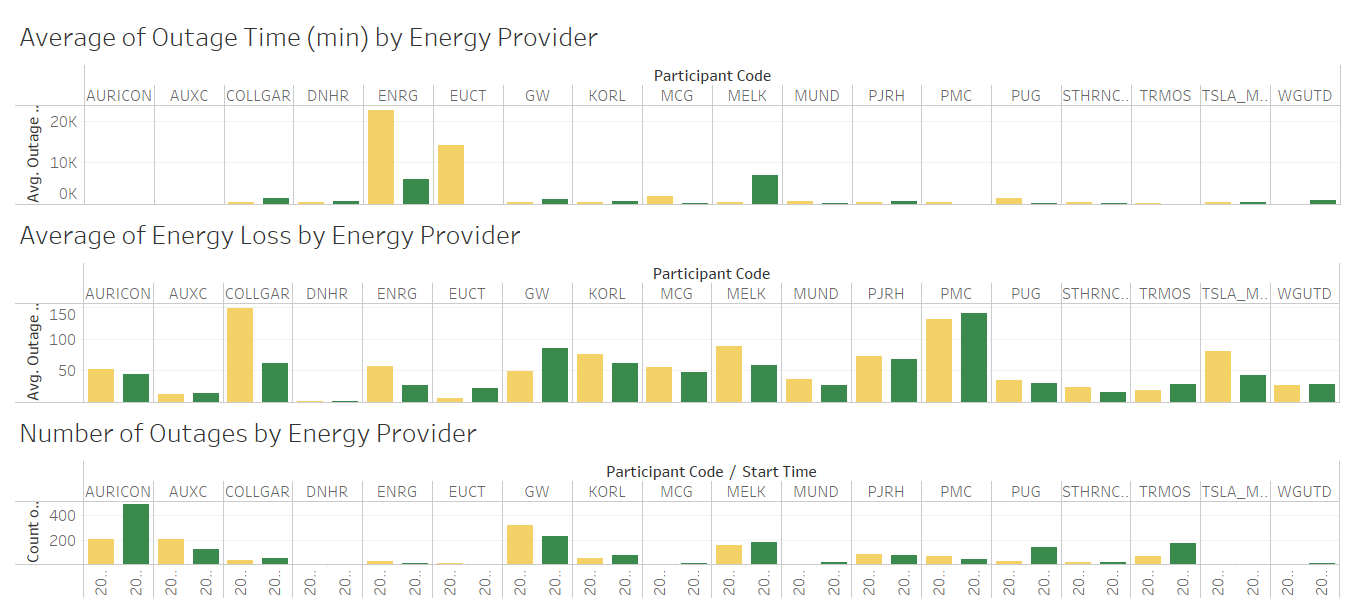

This screenshot's page, from the dashboard's own definition file:
{"tool":"tableau","page":{"name":"Energy Providers","canvas":[1000,1000],"units":"permille","ordinal":0},"visuals":[{"type":"worksheet","title":"Average of Outage Time (min) by Energy Provider","mark":"Bar","rows":["Calculation_789818849608769575"],"cols":["Participant_Code","Start_Time"],"box":[6.3,14.1,987.4,324.5]},{"type":"worksheet","title":"Average of Energy Loss by Energy Provider","mark":"Bar","rows":["Outage_MW"],"cols":["Participant_Code","Start_Time"],"box":[6.3,338.6,987.4,324.5]},{"type":"worksheet","title":"Number of Outages by Energy Provider","mark":"Bar","rows":["Description"],"cols":["Participant_Code","Start_Time"],"box":[6.3,663.1,987.4,322.8]}]}

Visuals, with their boxes on the dashboard's canvas, which has no fixed pixel size, in thousandths of its width and height (x1, y1, x2, y2). These are canvas units, not pixel positions in the 1356x608 screenshot, which may show the page scaled, cropped or inside an application window:
"Average of Outage Time (min) by Energy Provider" worksheet (Bar marks): region(6, 14, 994, 339)
"Average of Energy Loss by Energy Provider" worksheet (Bar marks): region(6, 339, 994, 663)
"Number of Outages by Energy Provider" worksheet (Bar marks): region(6, 663, 994, 986)
